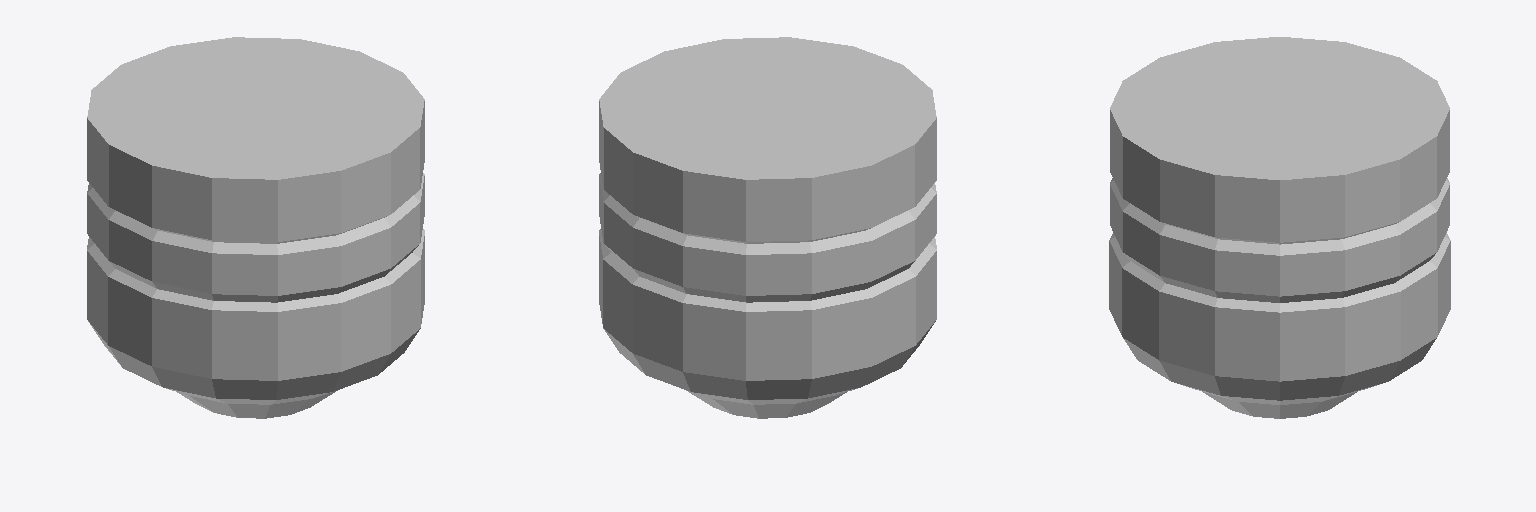
File: light_bulb_bottom.obj
3 renders of one model, left to right at view 1: azimuth 30°, elevation 25°; view 2: azimuth 150°, elevation 25°; view 3: azimuth 270°, elevation 25°, orthographic.
Parts seen in each view (by area): view 1: Lightbulb_2_Lightbulb; view 2: Lightbulb_2_Lightbulb; view 3: Lightbulb_2_Lightbulb.
Boxes of the visible parts, <box> form: Lightbulb_2_Lightbulb: <box>87,37,424,418</box>; Lightbulb_2_Lightbulb: <box>599,37,936,418</box>; Lightbulb_2_Lightbulb: <box>1109,37,1450,418</box>.
Size of the model in its own units: 0.679 by 0.6473 by 0.679.